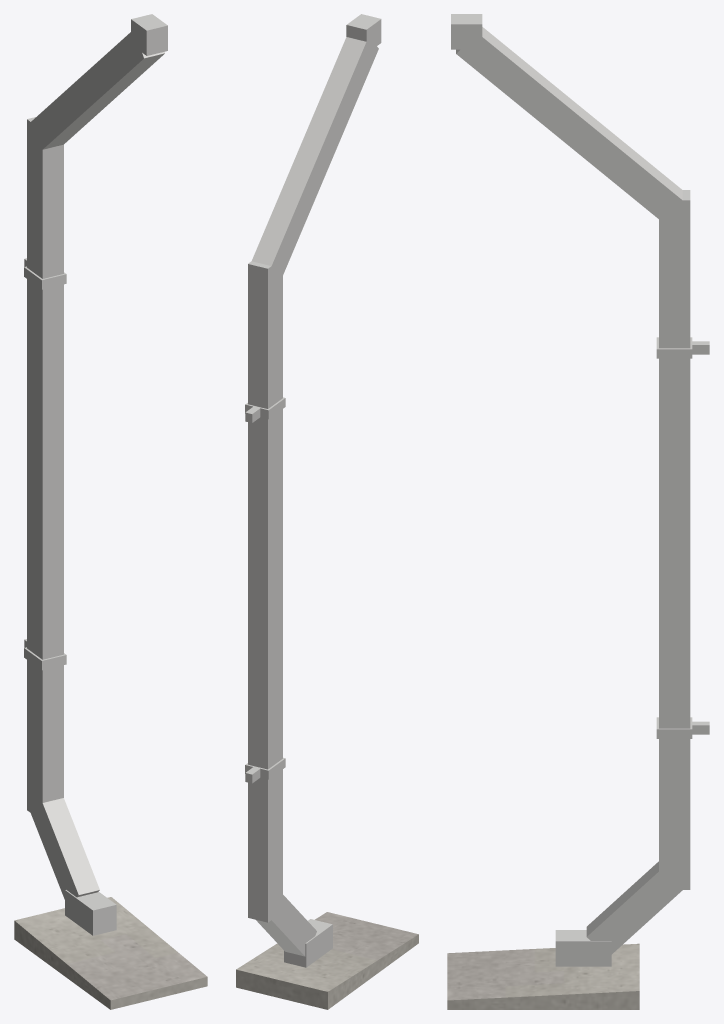
Rendered from downspout.glb.
3 views of the same model, side by side, from view 1: azimuth 30°, elevation 25°; view 2: azimuth 150°, elevation 25°; view 3: azimuth 270°, elevation 25° (orthographic). The views are drawn at different scales.
Parts seen in each view (by area): view 1: downspout_gutter, downspout_concrete; view 2: downspout_gutter, downspout_concrete; view 3: downspout_gutter, downspout_concrete.
Boxes of the visible parts, left/top/right/bottom form: downspout_gutter: left=24, top=14, right=167, bottom=935; downspout_concrete: left=14, top=897, right=207, bottom=1009; downspout_gutter: left=245, top=14, right=381, bottom=967; downspout_concrete: left=236, top=912, right=418, bottom=1009; downspout_gutter: left=451, top=14, right=709, bottom=966; downspout_concrete: left=447, top=943, right=639, bottom=1009.
Size of the model in its own units: 0.32 by 3.05 by 0.75.
2 materials, 1 textured.
